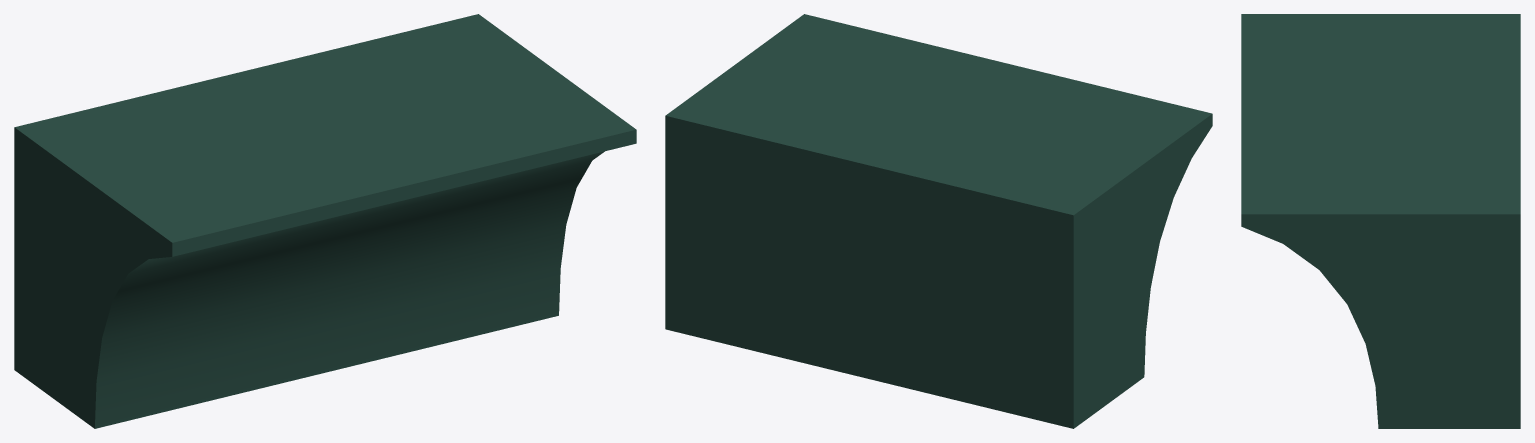
The model's file is W2_Wall_1m_TopCurved.fbx.
The picture shows the model from 3 angles, left to right: view 1: azimuth 30°, elevation 25°; view 2: azimuth 150°, elevation 25°; view 3: azimuth 270°, elevation 25°; orthographic projection. The views are drawn at different scales.
Parts seen in each view (by area): view 1: W2_Wall_1m_TopCurved.001; view 2: W2_Wall_1m_TopCurved.001; view 3: W2_Wall_1m_TopCurved.001.
Boxes of the visible parts, x1,y1,x2,y2 form: W2_Wall_1m_TopCurved.001: (14, 14, 636, 428); W2_Wall_1m_TopCurved.001: (665, 14, 1212, 428); W2_Wall_1m_TopCurved.001: (1241, 14, 1520, 428).
Bounding box in the file's own units: 1 × 0.5 × 0.5894.
